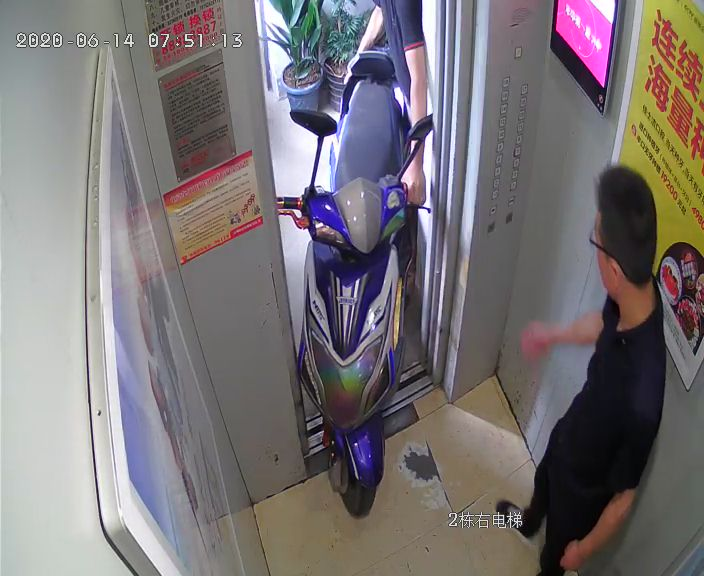Electric-bicycle: (278, 51, 433, 511)
